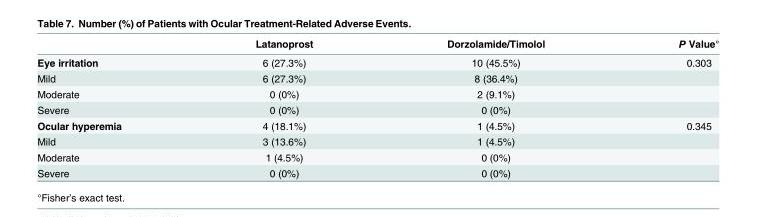table: (36, 36, 718, 178)
table column: (379, 36, 611, 178), (187, 36, 379, 178), (36, 36, 187, 178), (611, 36, 718, 178)
table column header: (36, 36, 718, 52)
table row: (36, 52, 718, 70), (36, 36, 718, 52), (36, 85, 718, 101), (36, 101, 718, 117), (36, 117, 718, 133), (36, 148, 718, 164), (36, 70, 718, 85), (36, 133, 718, 148), (36, 164, 718, 178)
